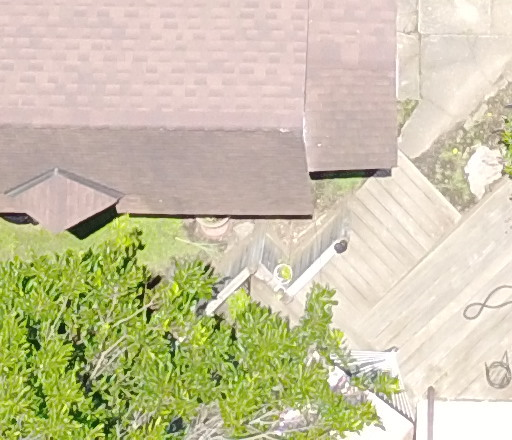container: (332, 229, 352, 263)
flower pot: (190, 205, 238, 234), (272, 262, 296, 291)
porch: (179, 65, 509, 440)
